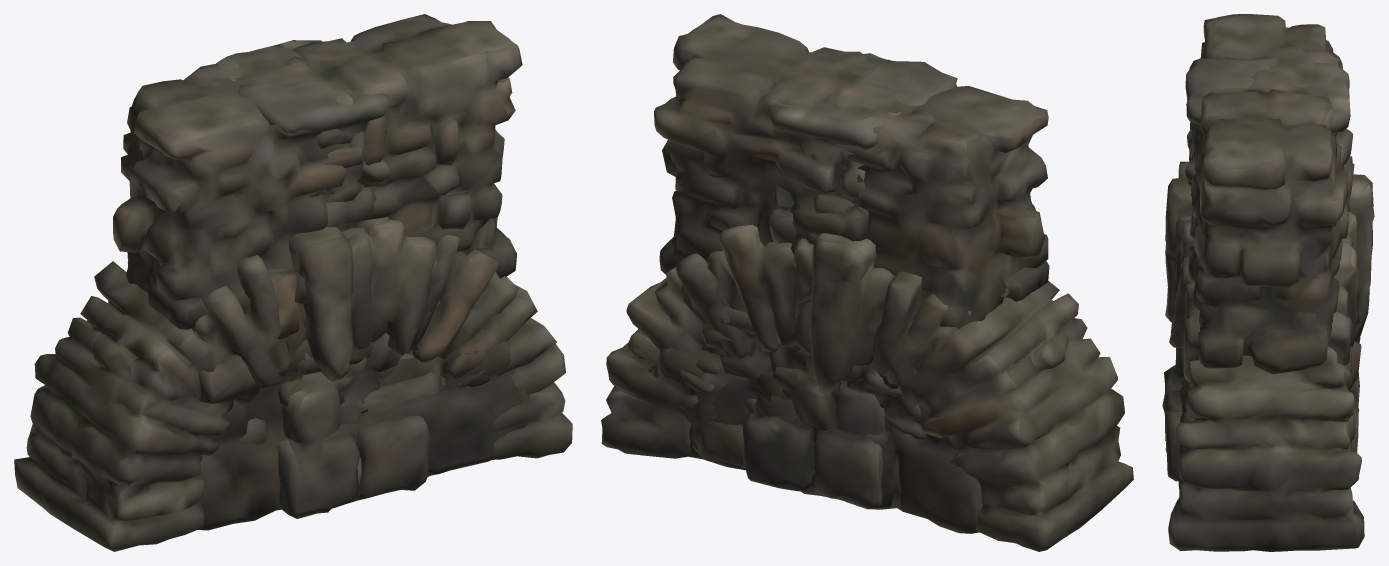
File: Ruin_Walls.fbx
3 renders of one model, left to right at view 1: azimuth 30°, elevation 25°; view 2: azimuth 150°, elevation 25°; view 3: azimuth 270°, elevation 25°, orthographic. The views are drawn at different scales.
Parts seen in each view (by area): view 1: Ruin_Wall_01, Ruin_archway_01, Ruin_Pillar_01, Ruin_Wall_02; view 2: Ruin_Wall_01, Ruin_archway_01, Ruin_Pillar_01, Ruin_Wall_02; view 3: Ruin_Wall_01, Ruin_archway_01, Ruin_Pillar_01.
Boxes of the visible parts, x1,y1,x2,y2 form: Ruin_Wall_01: (113,14,529,530); Ruin_archway_01: (14,220,572,551); Ruin_Pillar_01: (216,40,430,518); Ruin_Wall_02: (239,259,445,496); Ruin_Wall_01: (653,14,1049,533); Ruin_archway_01: (601,224,1133,551); Ruin_Pillar_01: (742,53,957,508); Ruin_Wall_02: (692,306,925,508); Ruin_Wall_01: (1178,14,1355,466); Ruin_archway_01: (1165,161,1374,551); Ruin_Pillar_01: (1162,56,1361,481).
Size of what is drawn, in the model's own units: 506 by 421 by 214.
